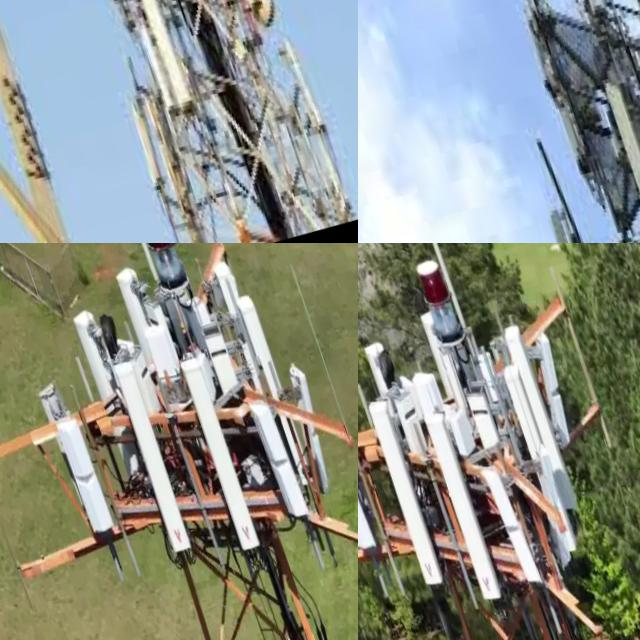GSM Antenna: (103, 352, 201, 569), (170, 342, 266, 559), (417, 397, 507, 604), (498, 308, 584, 513), (363, 392, 447, 587), (499, 357, 581, 544), (273, 350, 348, 495), (242, 389, 317, 532), (46, 407, 120, 545), (521, 311, 589, 450), (479, 455, 545, 585), (121, 0, 197, 110), (108, 257, 174, 366), (228, 290, 290, 402), (595, 67, 640, 219), (120, 86, 175, 207), (277, 26, 332, 134), (69, 299, 121, 393), (207, 252, 252, 327), (358, 422, 380, 555), (539, 189, 583, 243)
Microwave Antenna: (238, 0, 286, 34)
